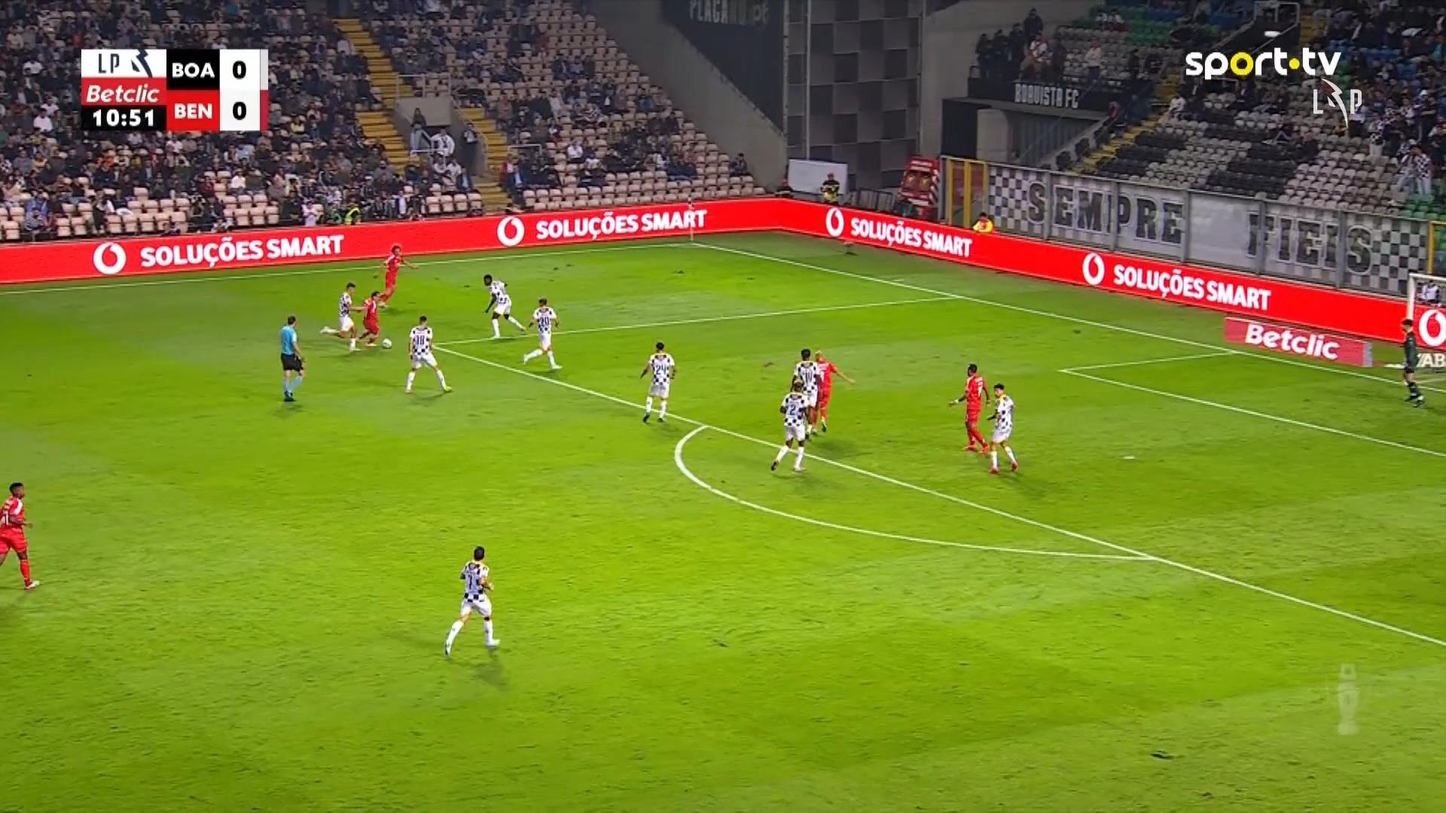ball: (380, 338, 392, 349)
goalkeeper: (1399, 316, 1425, 407)
player: (443, 545, 500, 657), (0, 481, 40, 591), (947, 362, 990, 453), (404, 314, 452, 394), (810, 349, 856, 432), (769, 382, 811, 472), (984, 382, 1018, 474), (521, 297, 563, 370), (372, 243, 418, 309), (639, 341, 676, 423), (319, 281, 361, 352), (482, 273, 527, 339), (791, 348, 821, 436), (354, 289, 385, 346)
referee: (278, 314, 306, 401)
